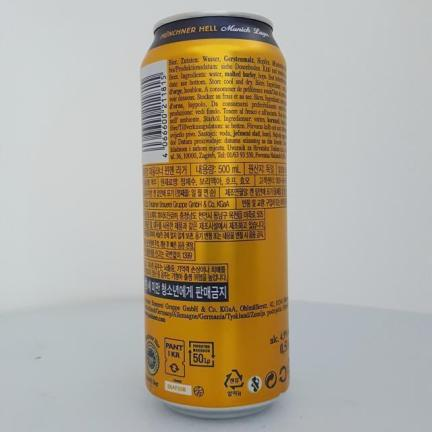can: (141, 17, 289, 416)
